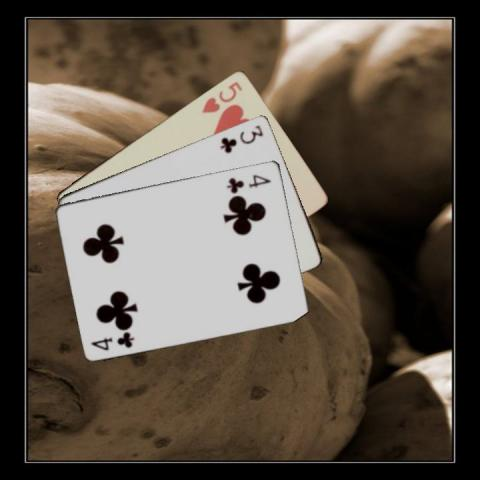3c: (217, 121, 265, 155)
4c: (88, 329, 136, 351), (223, 172, 272, 193)
5h: (198, 78, 244, 115)
